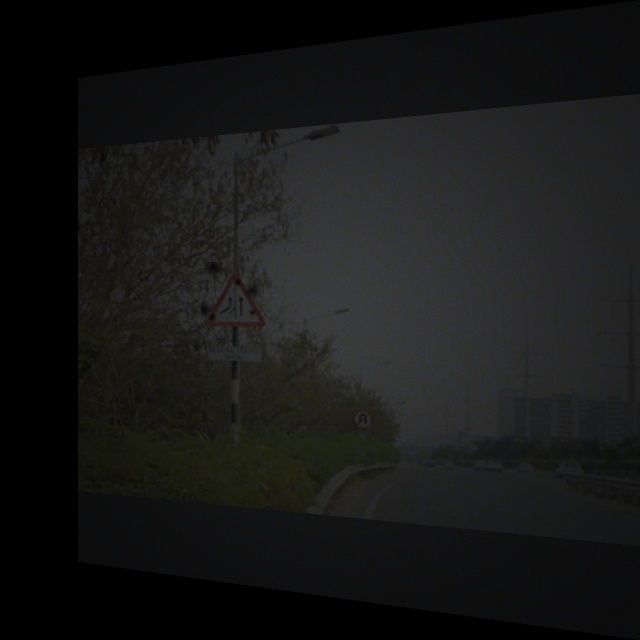Merge_Traffic_Ahead: (201, 262, 268, 330)
